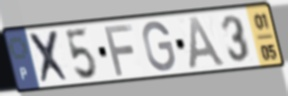3: (219, 13, 251, 65)
5: (63, 26, 99, 81)
A: (187, 16, 228, 71)
F: (102, 23, 135, 78)
G: (142, 20, 178, 73)
X: (26, 28, 73, 86)
